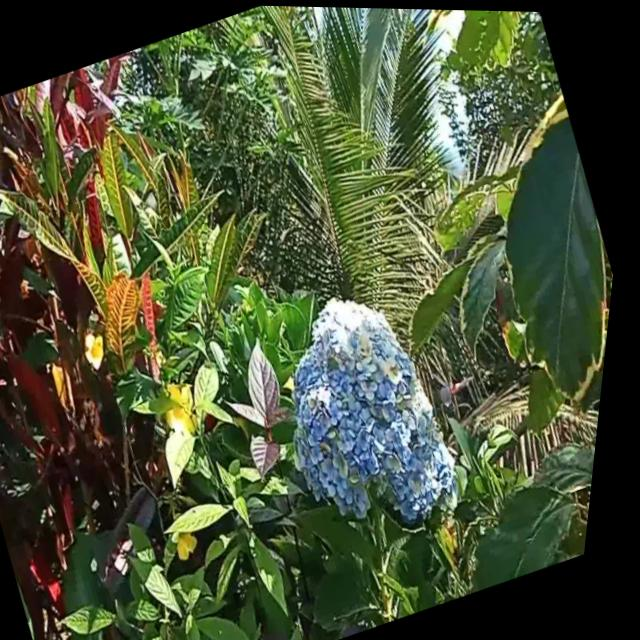Flower: (241, 260, 490, 547)
